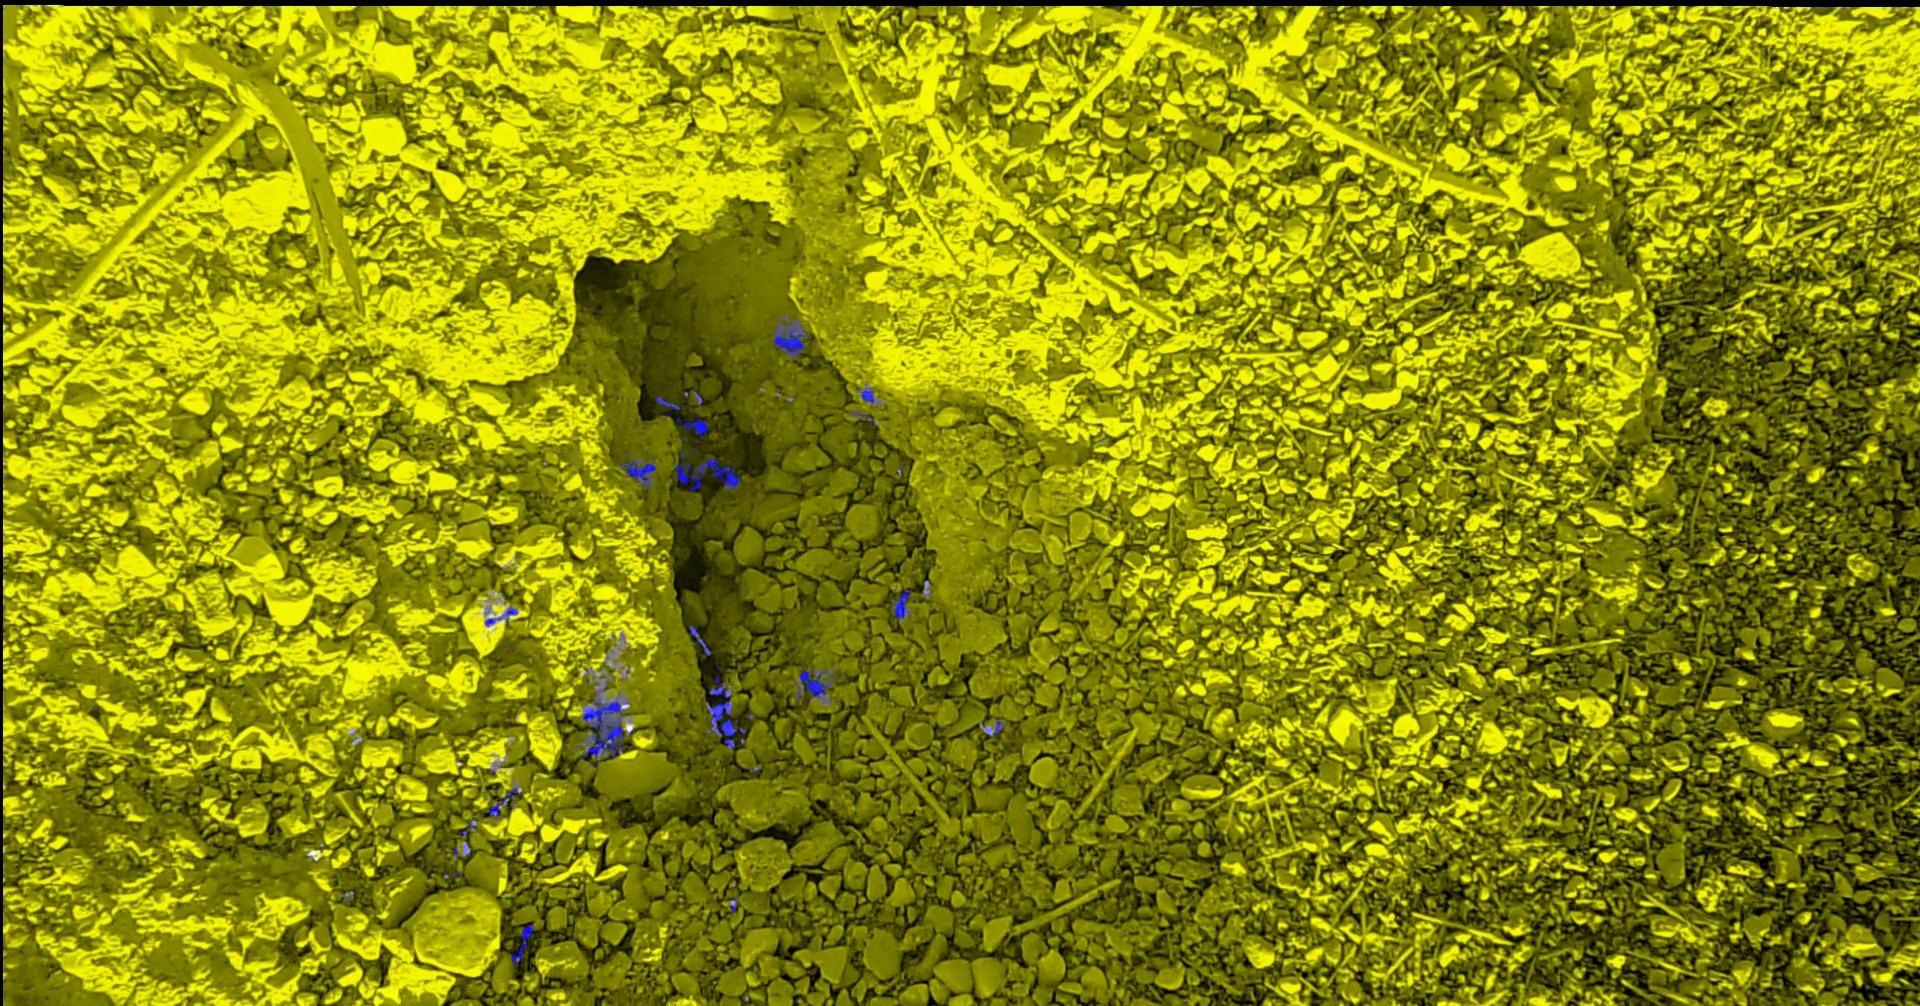ant: (676, 457, 739, 492), (772, 318, 808, 359), (792, 667, 837, 700), (618, 456, 657, 492), (664, 412, 709, 437), (488, 788, 521, 819), (510, 923, 533, 964), (888, 587, 910, 620), (688, 624, 711, 655), (485, 607, 517, 625), (978, 715, 1004, 735), (848, 410, 877, 427), (654, 395, 679, 410), (857, 387, 875, 403)
